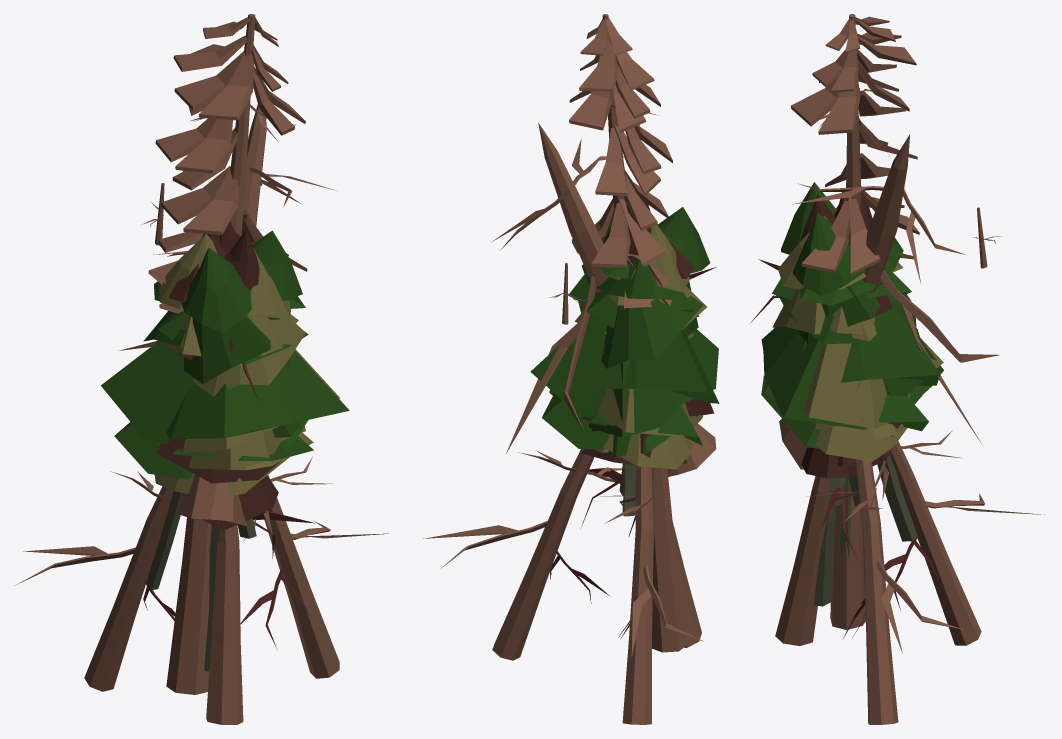
File: trees2.fbx
The picture shows the model from 3 angles, left to right: view 1: azimuth 30°, elevation 25°; view 2: azimuth 150°, elevation 25°; view 3: azimuth 270°, elevation 25°; orthographic projection. The views are drawn at different scales.
Parts seen in each view (by area): view 1: Cube.029, Cube.003, Cube.009, Cube.006, Cube.002, Cube.033, Cube.031, Cube.007, Cube.030; view 2: Cube.029, Cube.006, Cube.003, Cube.009, Cube.033, Cube.002, Cube.007, Cube.031; view 3: Cube.029, Cube.006, Cube.009, Cube.003, Cube.007, Cube.033, Cube.002, Cube.031, Cube.030, Cube.028.
Boxes of the visible parts, box(x1,y1,x2,y2) form: Cube.029: box(140, 14, 314, 694); Cube.003: box(15, 230, 302, 691); Cube.009: box(143, 281, 349, 724); Cube.006: box(181, 247, 388, 678); Cube.002: box(154, 248, 305, 495); Cube.033: box(118, 104, 336, 525); Cube.031: box(157, 221, 280, 671); Cube.007: box(157, 234, 339, 538); Cube.030: box(146, 229, 259, 590); Cube.029: box(548, 14, 686, 652); Cube.006: box(423, 207, 710, 660); Cube.003: box(568, 218, 719, 724); Cube.009: box(581, 254, 718, 647); Cube.033: box(492, 122, 716, 476); Cube.002: box(575, 294, 703, 516); Cube.007: box(549, 224, 706, 495); Cube.031: box(581, 190, 714, 464); Cube.029: box(791, 14, 1001, 629); Cube.006: box(772, 182, 964, 724); Cube.009: box(761, 238, 943, 645); Cube.003: box(792, 213, 1044, 645); Cube.007: box(803, 205, 910, 505); Cube.033: box(750, 134, 999, 469); Cube.002: box(765, 216, 943, 506); Cube.031: box(801, 185, 901, 606); Cube.030: box(800, 194, 917, 541); Cube.028: box(835, 192, 899, 562).
Size of the model in its own units: 645 by 1254 by 508.
